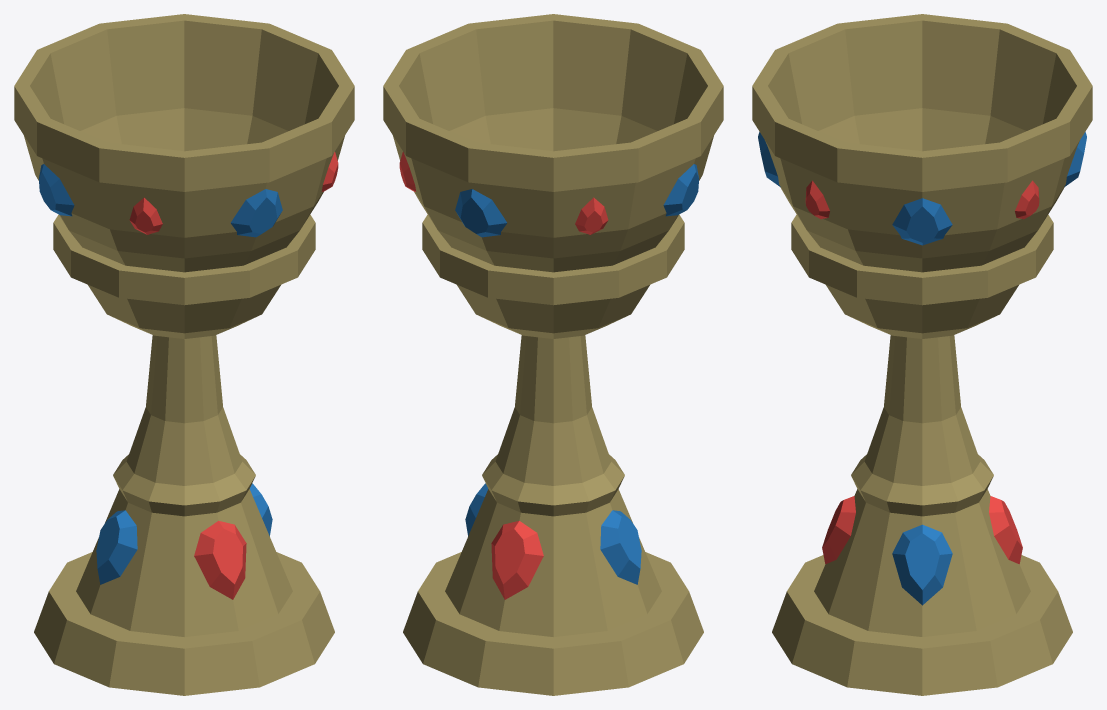
File: fantasy_goblet_1.fbx
The picture shows the model from 3 angles, left to right: view 1: azimuth 30°, elevation 25°; view 2: azimuth 150°, elevation 25°; view 3: azimuth 270°, elevation 25°; orthographic projection.
Visible parts, largest first — view 1: Cylinder.025; view 2: Cylinder.025; view 3: Cylinder.025.
Part boxes in pixels (x1,y1,x2,y2): Cylinder.025: [14, 14, 354, 695]; Cylinder.025: [383, 14, 723, 695]; Cylinder.025: [752, 14, 1092, 695].
Size of the model in its own units: 16.95 by 30 by 16.95.
